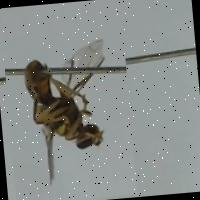Oriental-fruit-fly: (2, 25, 137, 200)
